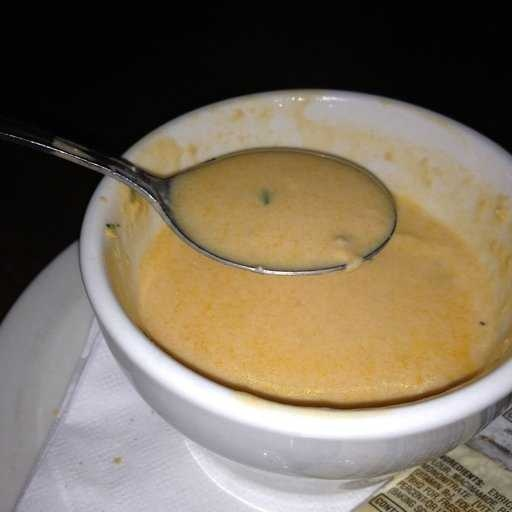soup: (118, 95, 502, 417)
